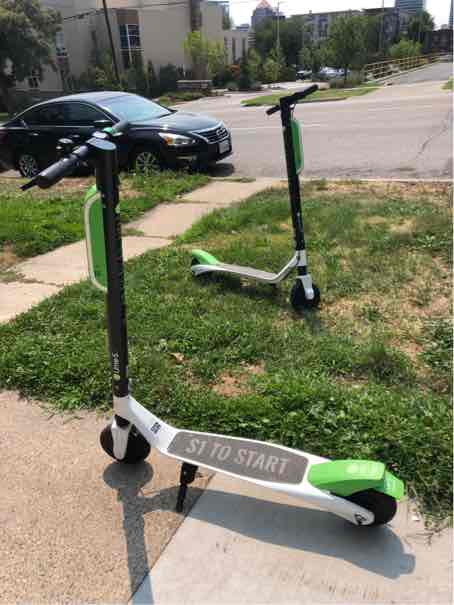scooter: (17, 121, 407, 536), (174, 80, 332, 315)
